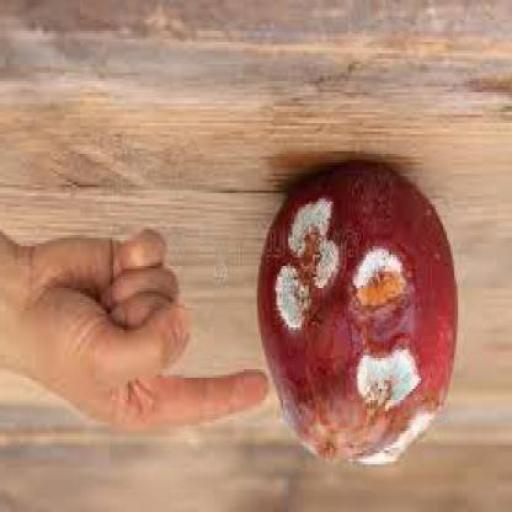biodegradable: (261, 162, 458, 467)
